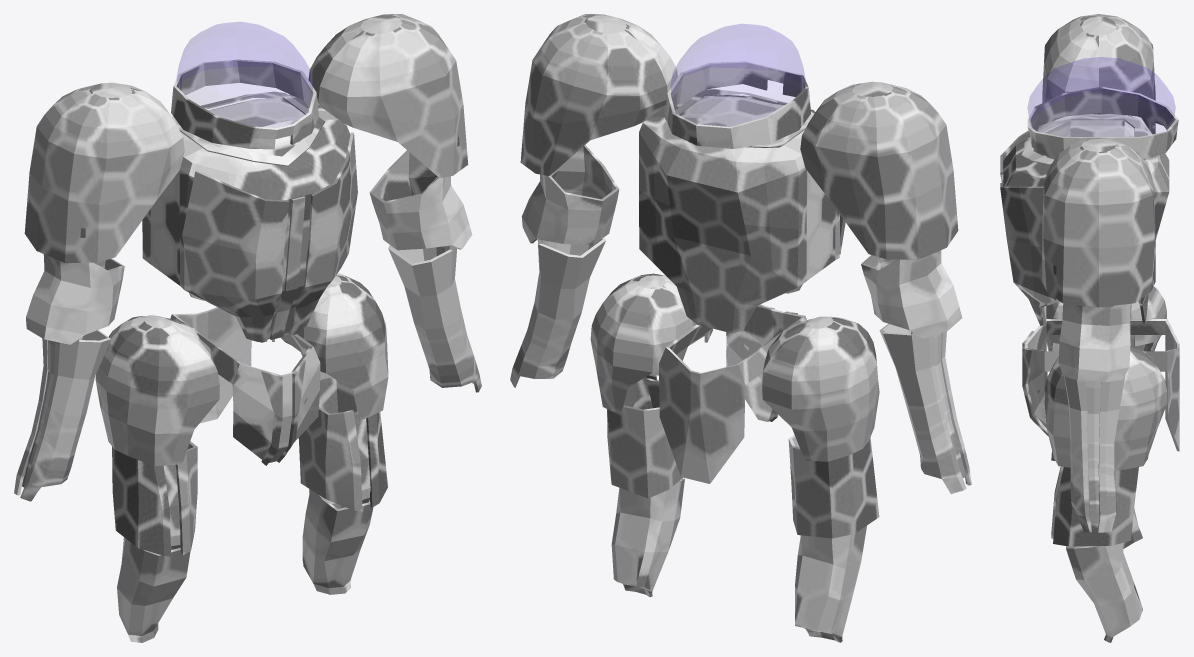
File: Armadura3.fbx
3 views of the same model, side by side, from view 1: azimuth 30°, elevation 25°; view 2: azimuth 150°, elevation 25°; view 3: azimuth 270°, elevation 25° (orthographic). The views are drawn at different scales.
Visible parts, largest first — view 1: pSphere24, pSphere26, polySurface34, pSphere25, polySurface67, polySurface39, pSphere27, pCylinder48, pCylinder59, pCylinder56, polySurface26, pCylinder55 (+13 smaller); view 2: polySurface34, pSphere24, pSphere26, pSphere25, polySurface39, pSphere27, pCylinder56, polySurface26, pCylinder48, pCylinder50, pCylinder55, pCylinder47 (+6 smaller); view 3: pSphere26, pSphere24, pSphere27, polySurface26, pCylinder56, pCylinder55, polySurface25, polySurface34, pCylinder58, polySurface68, polySurface39, pCylinder59 (+5 smaller).
Part boxes in pixels (x1=…): pSphere24: x1=24, y1=82, x2=184, y2=263; pSphere26: x1=308, y1=14, x2=468, y2=177; polySurface34: x1=142, y1=94, x2=350, y2=341; pSphere25: x1=95, y1=315, x2=219, y2=466; polySurface67: x1=182, y1=170, x2=289, y2=342; polySurface39: x1=170, y1=307, x2=320, y2=462; pSphere27: x1=271, y1=273, x2=388, y2=420; pCylinder48: x1=14, y1=330, x2=111, y2=501; pCylinder59: x1=298, y1=377, x2=387, y2=511; pCylinder56: x1=388, y1=245, x2=481, y2=392; polySurface26: x1=171, y1=59, x2=318, y2=149; pCylinder55: x1=369, y1=150, x2=472, y2=250; polySurface34: x1=639, y1=94, x2=839, y2=333; pSphere24: x1=800, y1=81, x2=958, y2=259; pSphere26: x1=520, y1=14, x2=677, y2=175; pSphere25: x1=762, y1=316, x2=879, y2=461; polySurface39: x1=659, y1=305, x2=806, y2=483; pSphere27: x1=590, y1=273, x2=712, y2=415; pCylinder56: x1=510, y1=238, x2=605, y2=387; polySurface26: x1=665, y1=61, x2=810, y2=148; pCylinder48: x1=879, y1=323, x2=971, y2=494; pCylinder50: x1=788, y1=435, x2=879, y2=538; pCylinder55: x1=521, y1=145, x2=619, y2=245; pCylinder47: x1=861, y1=250, x2=962, y2=338; pSphere26: x1=1042, y1=138, x2=1155, y2=307; pSphere24: x1=1042, y1=14, x2=1155, y2=134; pSphere27: x1=1044, y1=347, x2=1166, y2=470; polySurface26: x1=1027, y1=86, x2=1178, y2=160; pCylinder56: x1=1064, y1=375, x2=1125, y2=532; pCylinder55: x1=1058, y1=303, x2=1131, y2=381; polySurface25: x1=1027, y1=57, x2=1175, y2=122; polySurface34: x1=1003, y1=113, x2=1169, y2=325; pCylinder58: x1=1066, y1=542, x2=1142, y2=642; polySurface68: x1=1000, y1=182, x2=1056, y2=326; polySurface39: x1=1024, y1=319, x2=1179, y2=451; pCylinder59: x1=1051, y1=466, x2=1138, y2=546.
Size of the model in its own units: 357 by 133 by 436.
Materials: 2 (1 with a texture image).
